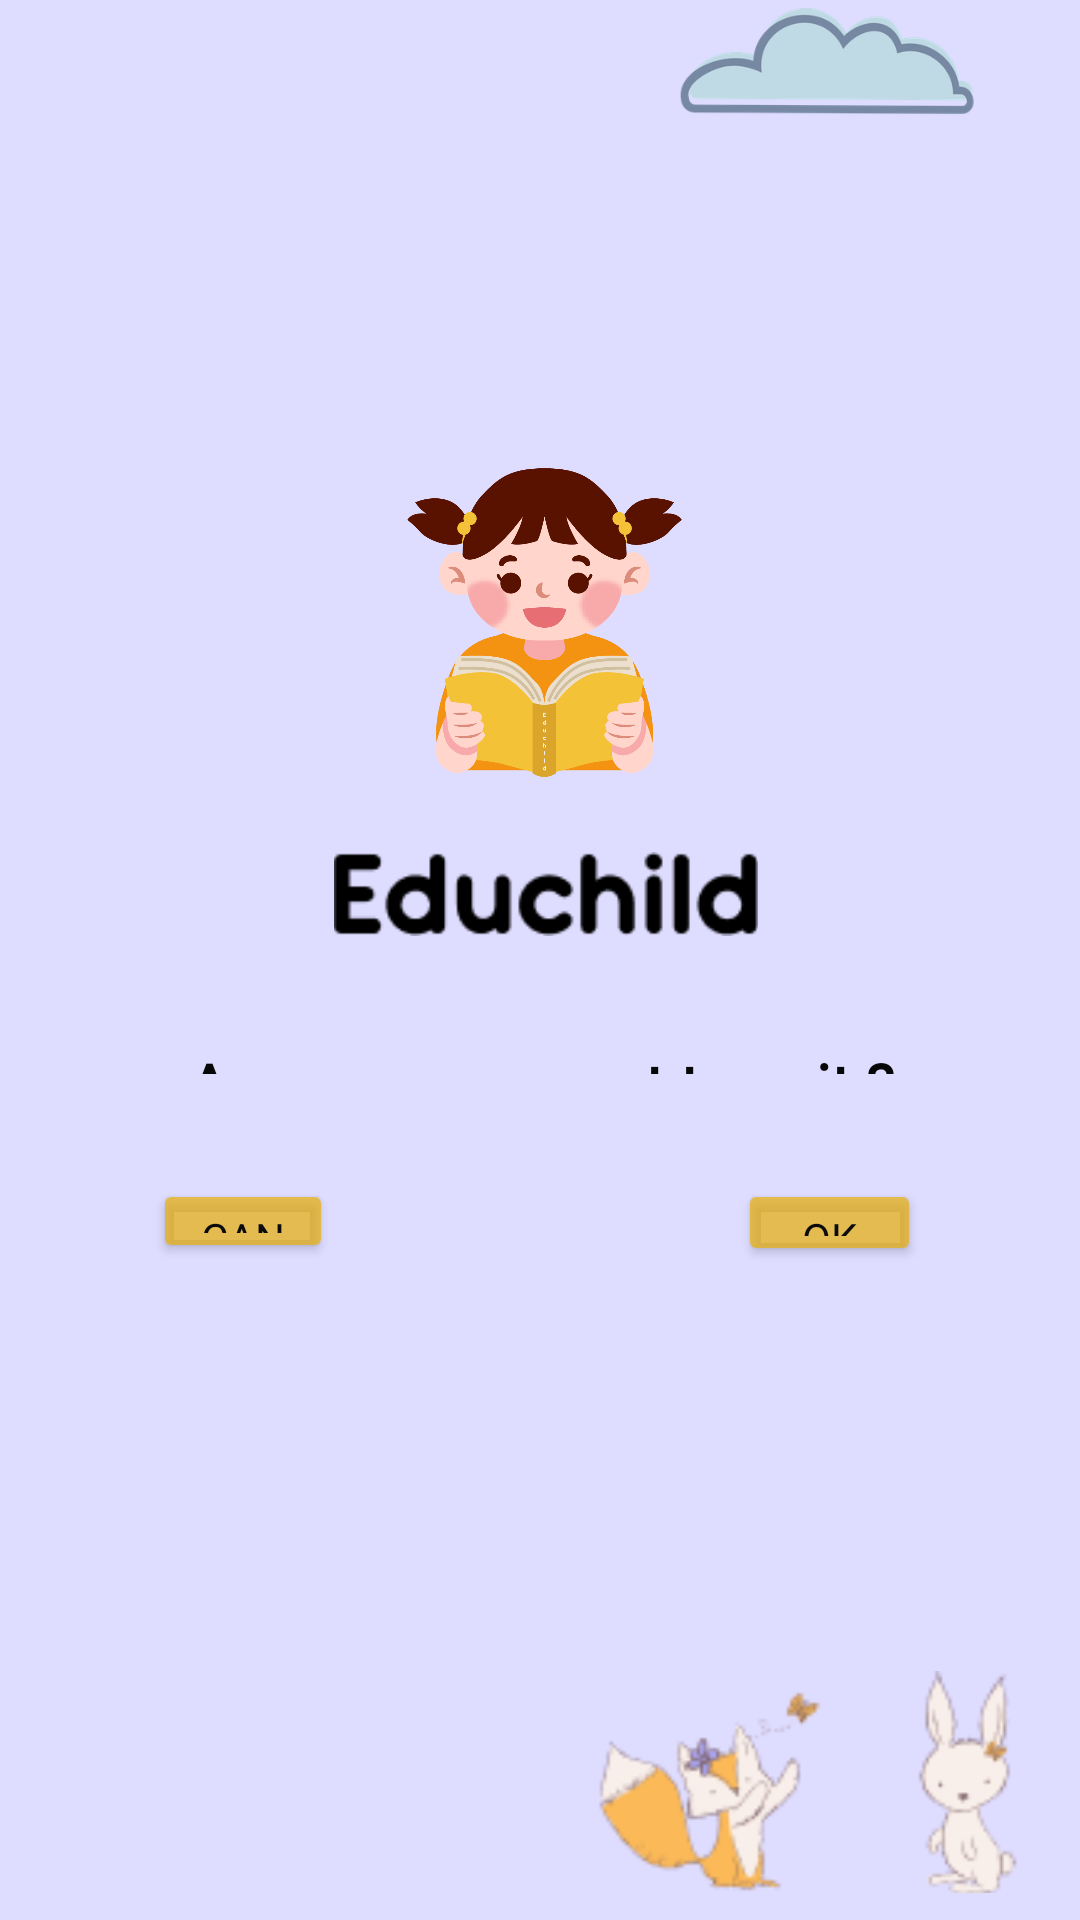

Point at icon controls on the screen. Image size 1080x1920, points as [x,y].
cloud: [827,61]
